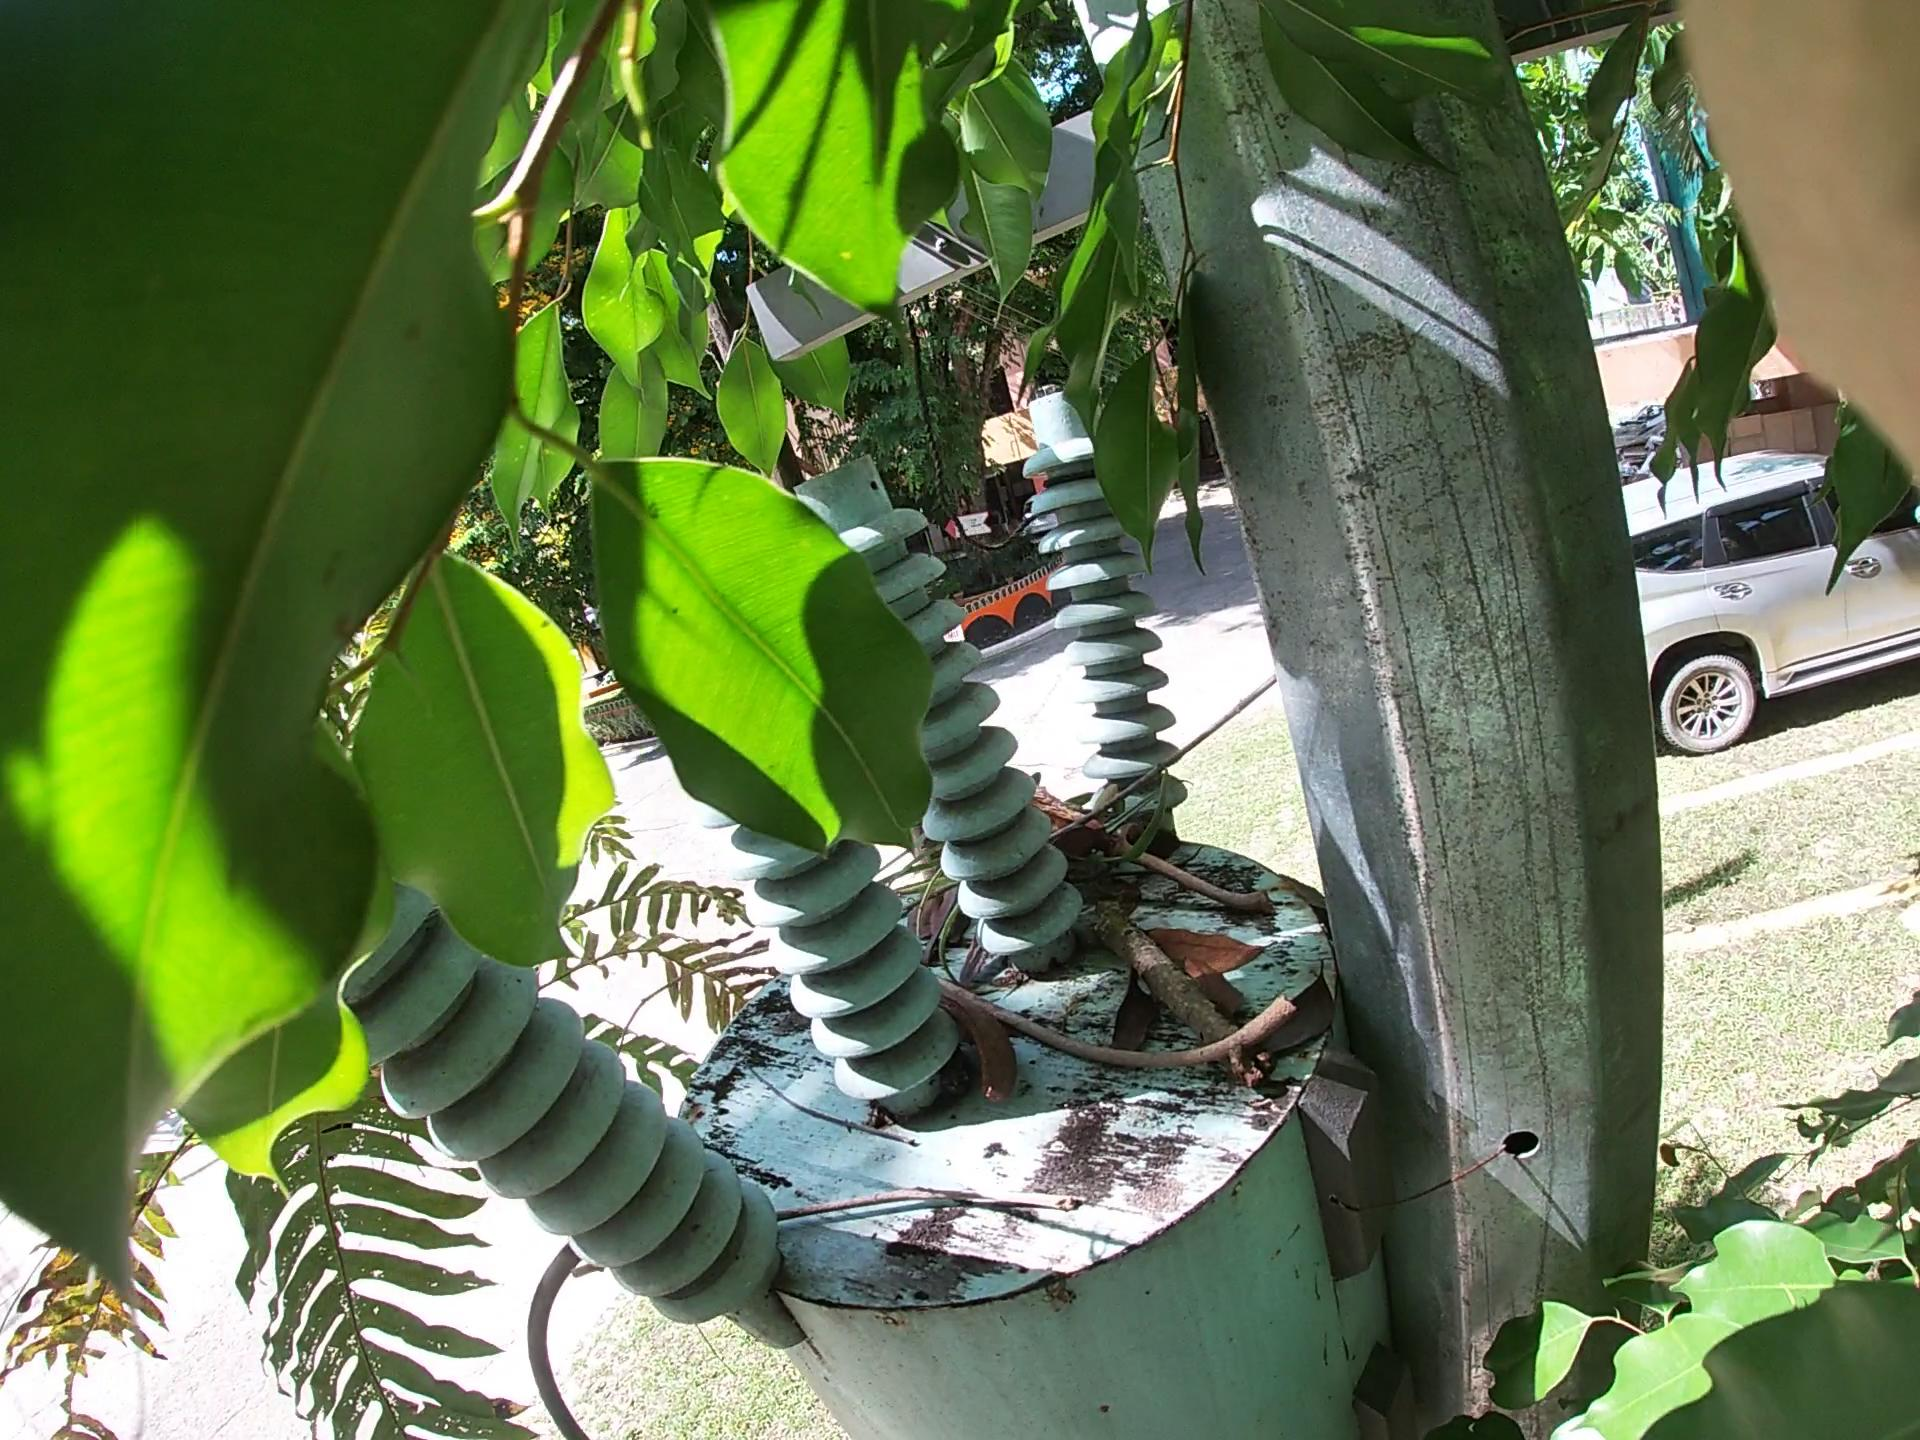leaf: (1099, 915, 1246, 1029)
tree branch: (854, 935, 1417, 1095), (993, 835, 1321, 1089), (636, 1196, 1089, 1284), (1085, 833, 1336, 964)
